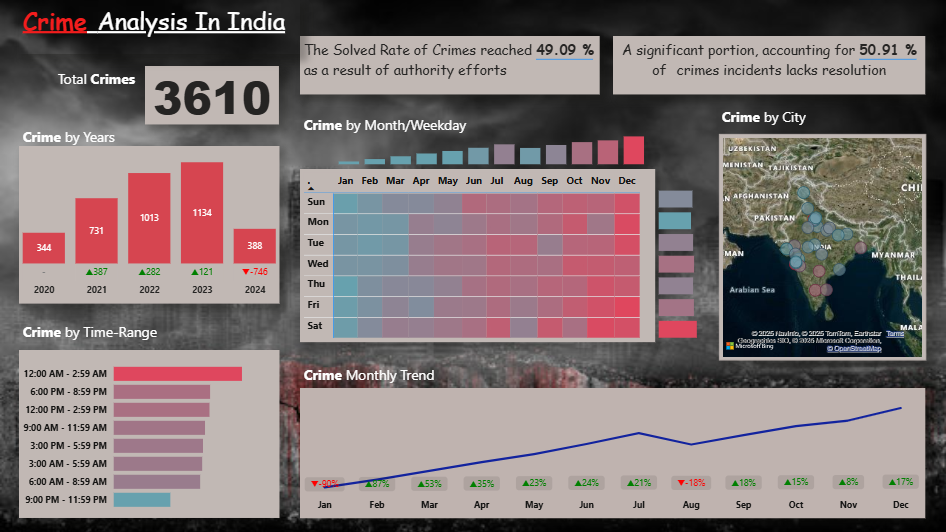

What the dashboard file says about the page in this screenshot:
{"tool":"powerbi","page":{"name":"Page 1","canvas":[1280,720],"ordinal":0},"visuals":[{"type":"card","fields":{"Values":["Calculations.Total Crimes"]},"box":[195.7,88.6,181.4,78.6],"z":0},{"type":"columnChart","fields":{"Category":["DateTable.year"],"Y":["Calculations.Blank Measure (Year)","Calculations.Total Crimes"]},"box":[26.3,197.1,352.1,212.8],"z":1000},{"type":"lineChart","fields":{"Category":["DateTable.Month"],"Y":["Calculations.Blank Measure (Month)","Calculations.Total Crimes"]},"box":[406,524.4,845.1,176.2],"z":2000},{"type":"clusteredBarChart","fields":{"Category":["crime_dataset_india.Time Group"],"Y":["Calculations.Total Crimes"]},"box":[26.2,473.5,352.3,227.1],"z":3000},{"type":"pivotTable","fields":{"Rows":["DateTable.Weekday"],"Columns":["DateTable.Month"],"Values":["Calculations.Total Crimes"]},"box":[406,228.6,479.6,233.9],"z":4000},{"type":"clusteredColumnChart","fields":{"Category":["DateTable.Month"],"Y":["Calculations.Total Crimes"]},"box":[453.3,166.9,423.1,61.8],"z":5000},{"type":"clusteredBarChart","fields":{"Category":["DateTable.Weekday"],"Y":["Calculations.Total Crimes"]},"box":[885,245,64.7,217.5],"z":6000},{"type":"textbox","box":[406,48.6,404.7,78.8],"z":7000},{"type":"textbox","box":[829.1,48.6,421.8,78.8],"z":8000},{"type":"map","fields":{"Category":["crime_dataset_india.City"]},"box":[970.9,181.3,279.9,306.1],"z":10000},{"type":"textbox","box":[26.2,0,379.9,72.9],"z":12000},{"type":"textbox","box":[73.6,88,123.5,61.8],"z":13000},{"type":"textbox","box":[26.3,166.9,340.3,46],"z":14000},{"type":"textbox","box":[26.3,429.6,352.1,44.7],"z":15000},{"type":"textbox","box":[406,150,258.8,39.9],"z":16000},{"type":"textbox","box":[406,487.4,480.9,36.8],"z":17000},{"type":"textbox","box":[970.3,139,279.4,42.7],"z":18000}]}

Visuals, with their boxes in screenshot pixels (x1, y1, x2, y2), scaled from the page's 1280x720 canvas onto the 946x532 screenshot:
card - Calculations.Total Crimes: x1=145 y1=65 x2=279 y2=124
columnChart - DateTable.year x Calculations.Blank Measure (Year): x1=19 y1=146 x2=280 y2=303
lineChart - DateTable.Month x Calculations.Blank Measure (Month): x1=300 y1=387 x2=925 y2=518
clusteredBarChart - crime_dataset_india.Time Group x Calculations.Total Crimes: x1=19 y1=350 x2=280 y2=518
pivotTable - DateTable.Weekday x DateTable.Month: x1=300 y1=169 x2=655 y2=342
clusteredColumnChart - DateTable.Month x Calculations.Total Crimes: x1=335 y1=123 x2=648 y2=169
clusteredBarChart - DateTable.Weekday x Calculations.Total Crimes: x1=654 y1=181 x2=702 y2=342
textbox: x1=300 y1=36 x2=599 y2=94
textbox: x1=613 y1=36 x2=924 y2=94
map - crime_dataset_india.City: x1=718 y1=134 x2=924 y2=360
textbox: x1=19 y1=0 x2=300 y2=54
textbox: x1=54 y1=65 x2=146 y2=111
textbox: x1=19 y1=123 x2=271 y2=157
textbox: x1=19 y1=317 x2=280 y2=350
textbox: x1=300 y1=111 x2=491 y2=140
textbox: x1=300 y1=360 x2=655 y2=387
textbox: x1=717 y1=103 x2=924 y2=134
